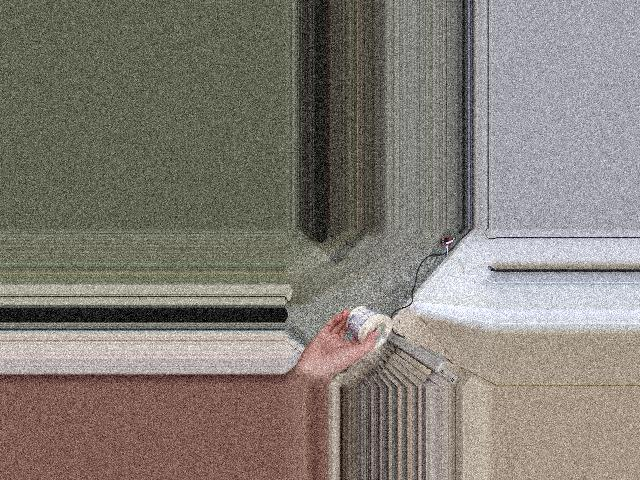cotage: (343, 305, 390, 347)
